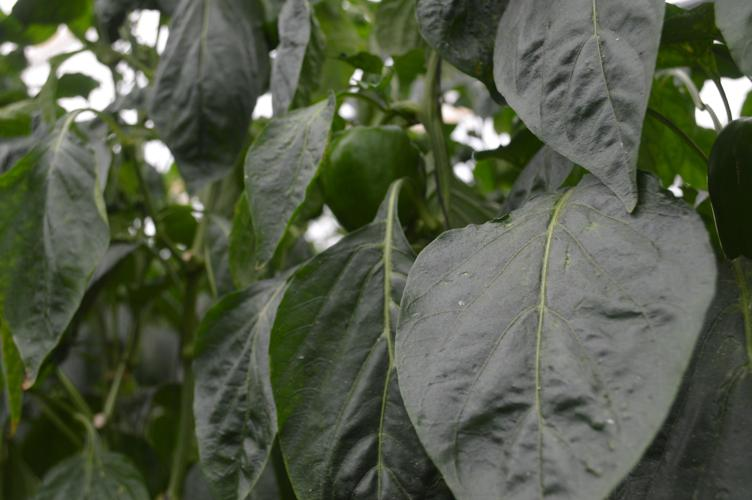BellPepper: (320, 122, 420, 235)
